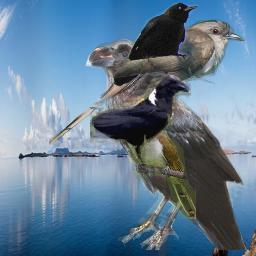Crow: (85, 38, 247, 250), (90, 73, 191, 163), (113, 3, 198, 87)
Cuckoo: (49, 19, 245, 145), (107, 124, 196, 219)
